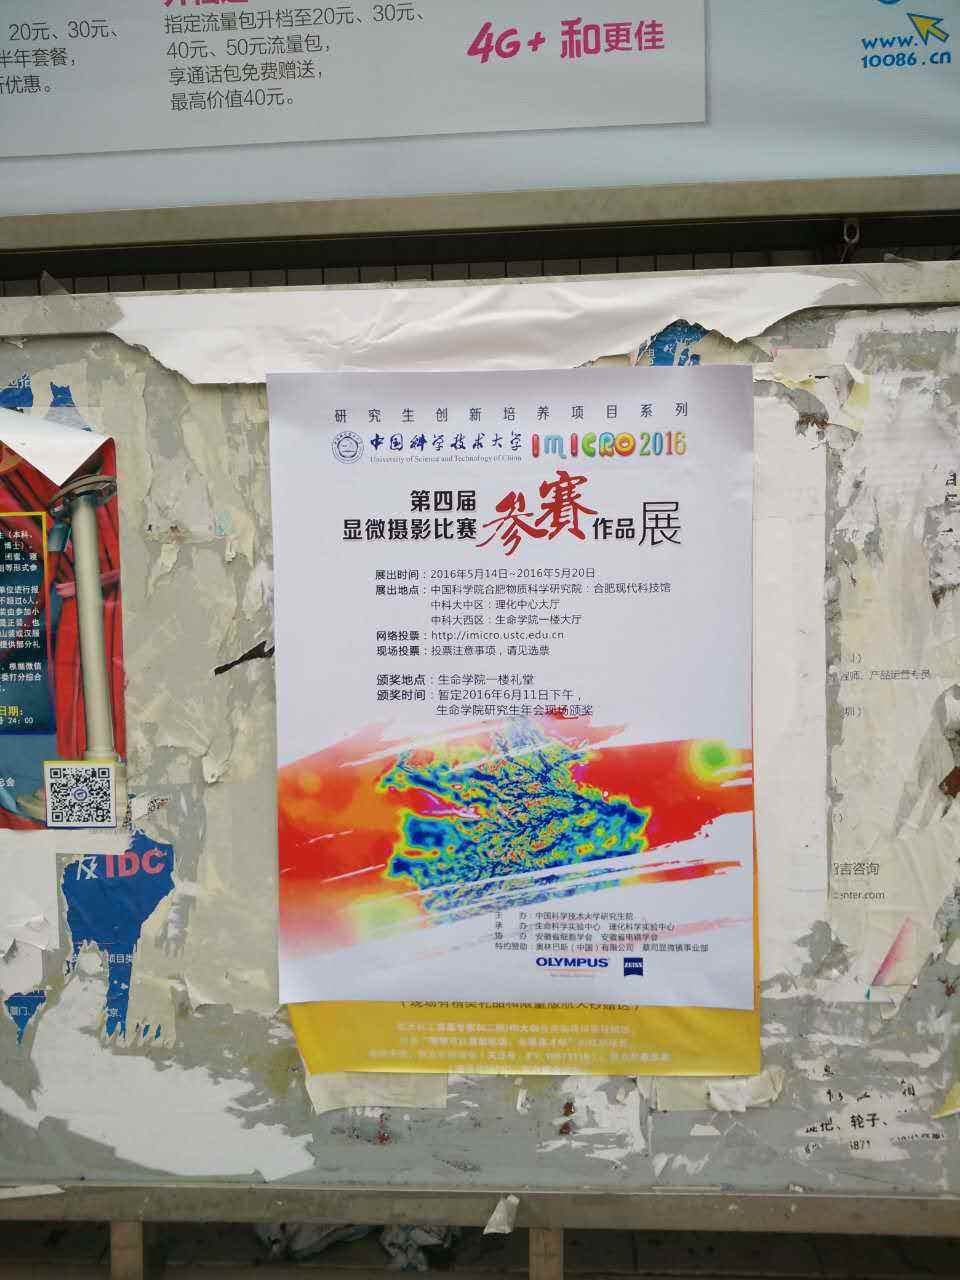bill: (261, 373, 761, 1078), (1, 414, 126, 836)
